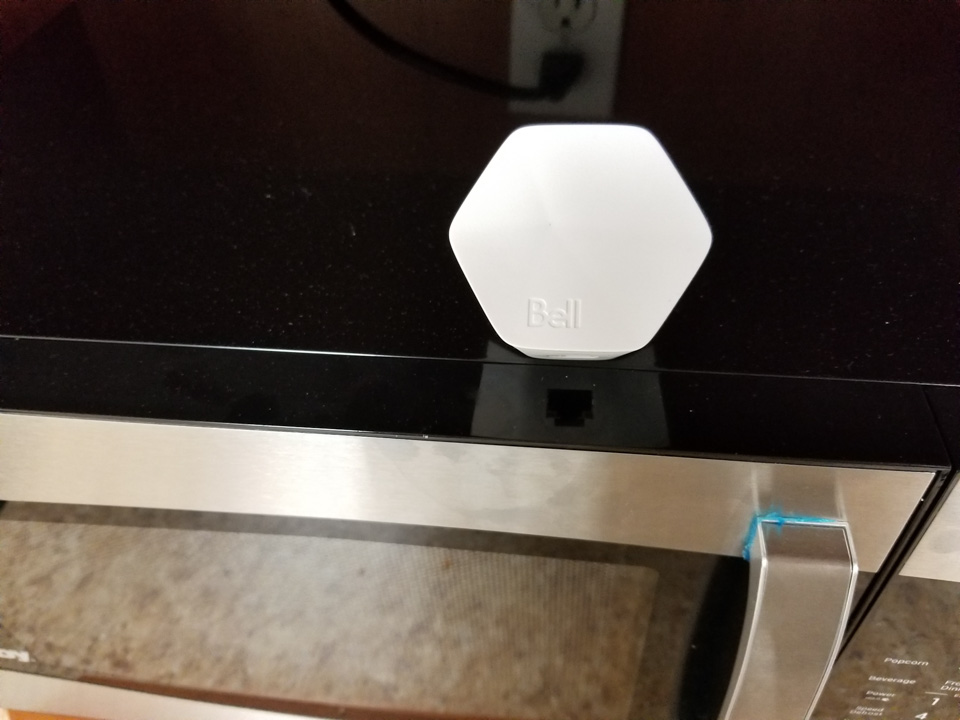pod: (443, 119, 720, 365)
